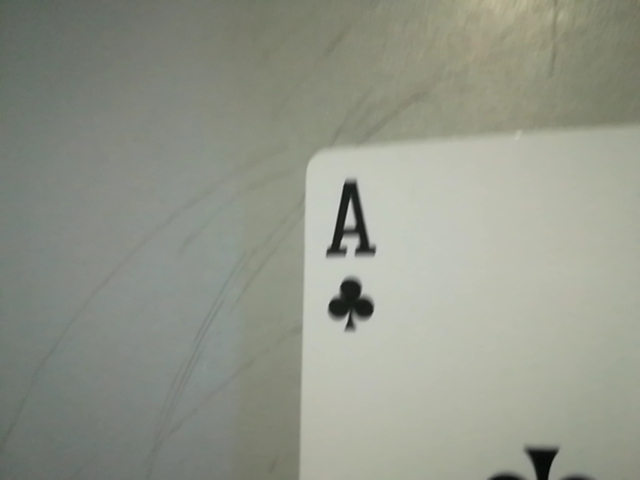mh a: (312, 165, 399, 345)
